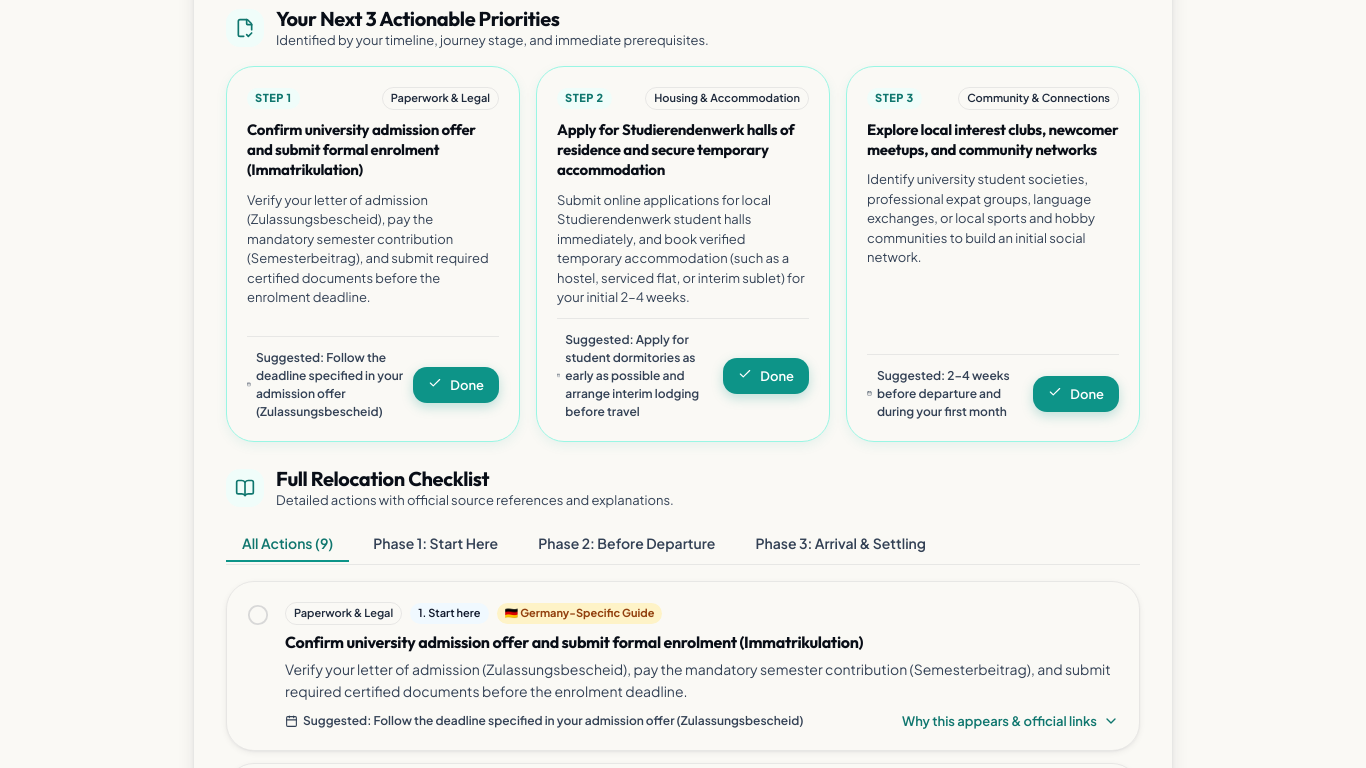
Scenario: Task 3.2: Close Remaining Plan-Persistence Gaps › 3. Honest Storage Status Reporting & Save Failure Handling › recovers from storage failure when a subsequent save succeeds
(page scrolled)
# User performs a task toggle
Click the 1st button "Done": (456,385) [413,367,499,403]
(page scrolled)
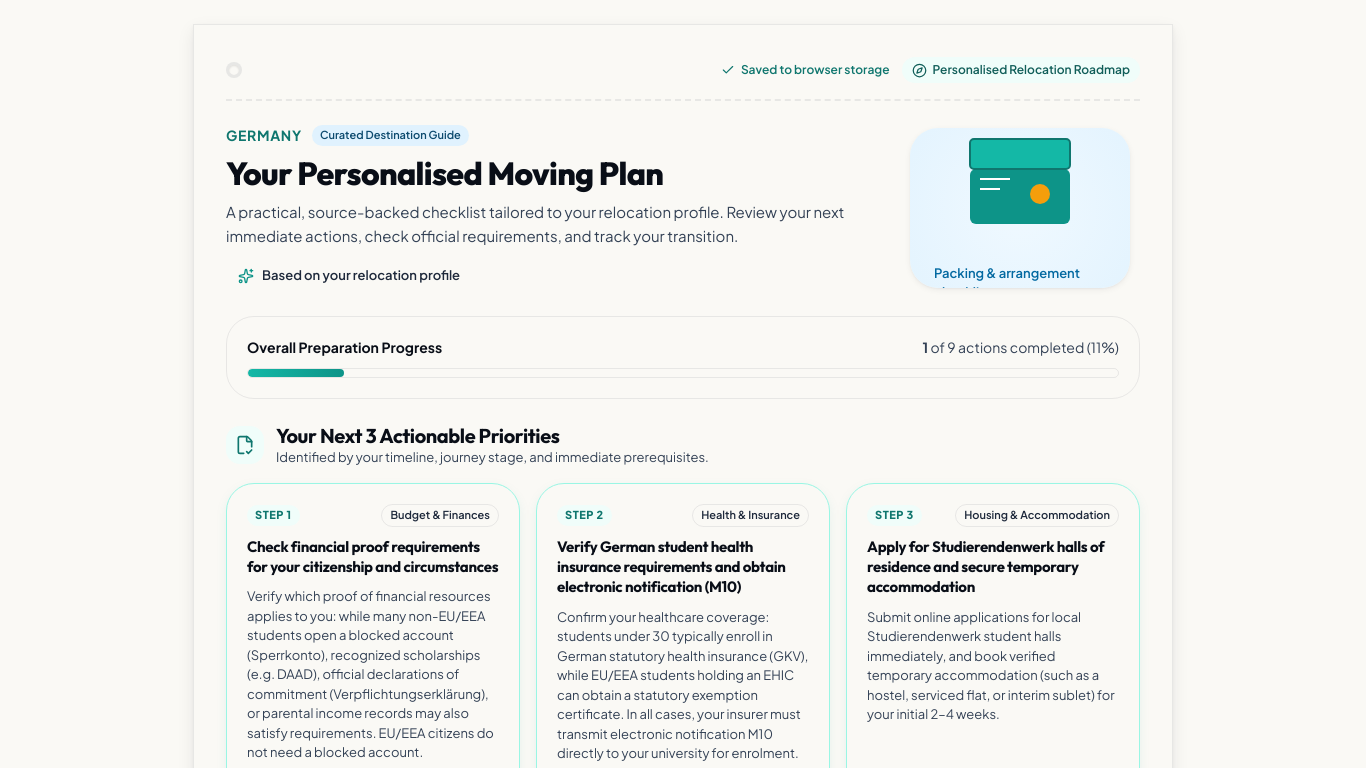
Result: the message reads "Saved to browser storage" at [741,62,890,77]
